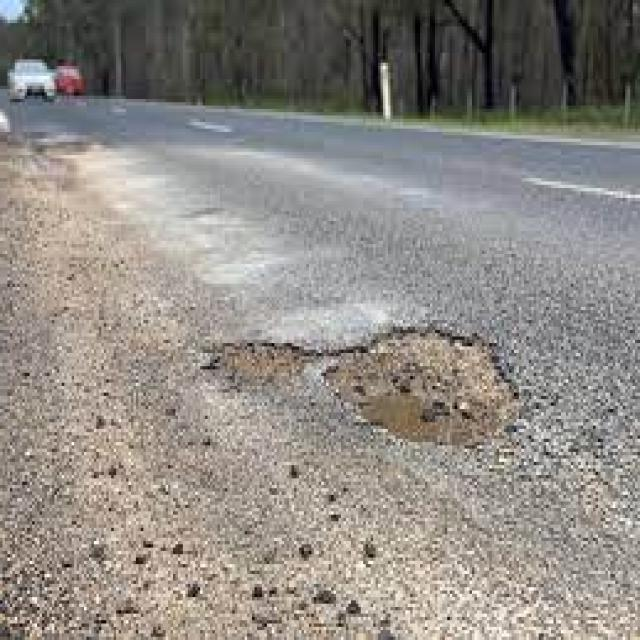Pothole: (328, 329, 518, 444), (216, 342, 310, 386)
